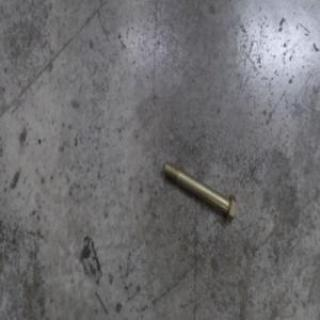Bolttrack_idkeyframe: (162, 157, 236, 223)
